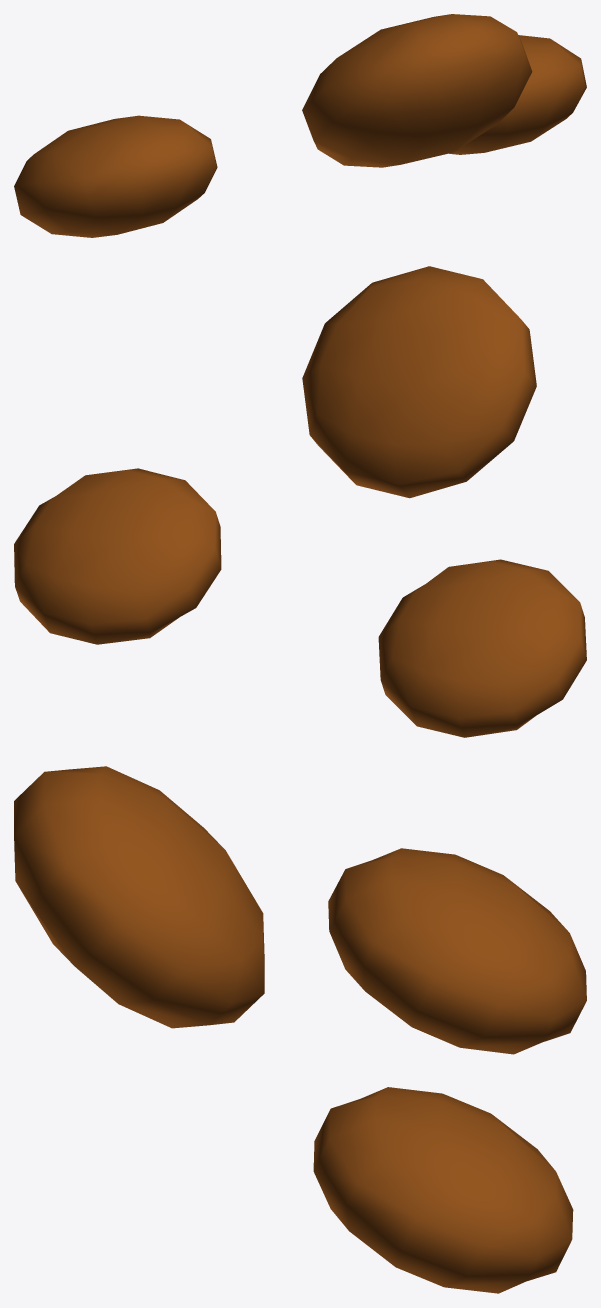
Rendered from head_ocelli.obj.
3 renders of one model, top to bottom at view 1: azimuth 30°, elevation 25°; view 2: azimuth 150°, elevation 25°; view 3: azimuth 270°, elevation 25°, orthographic. The views are drawn at different scales.
Bounding box in the file's own units: 0.0174 × 0.00854 × 0.0121.
